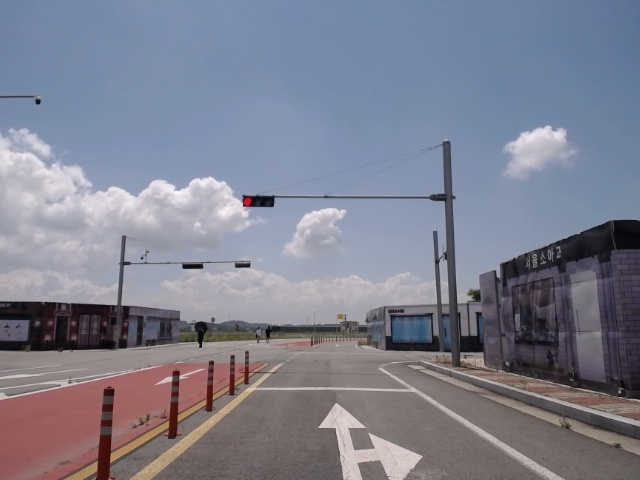red_3: (242, 194, 276, 208)
